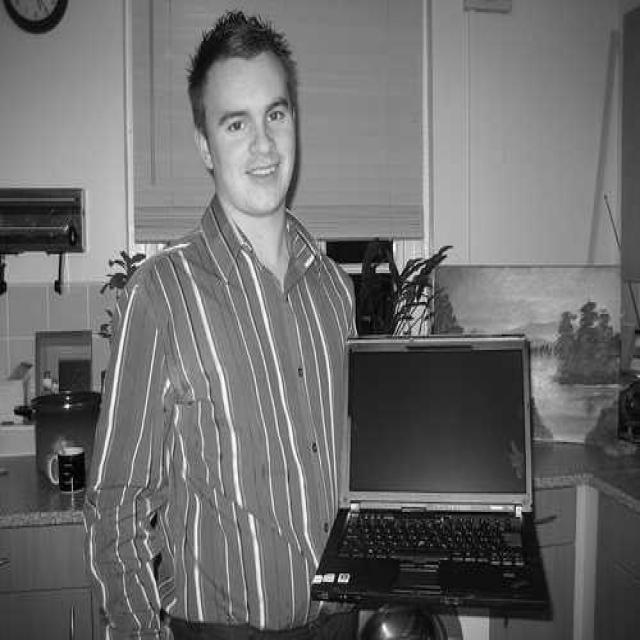laptop: (315, 342, 542, 620)
